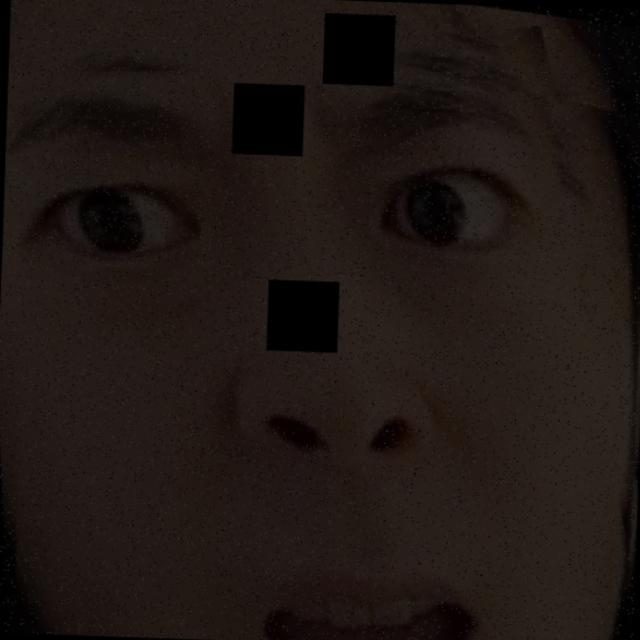Angry: (13, 27, 611, 640)
